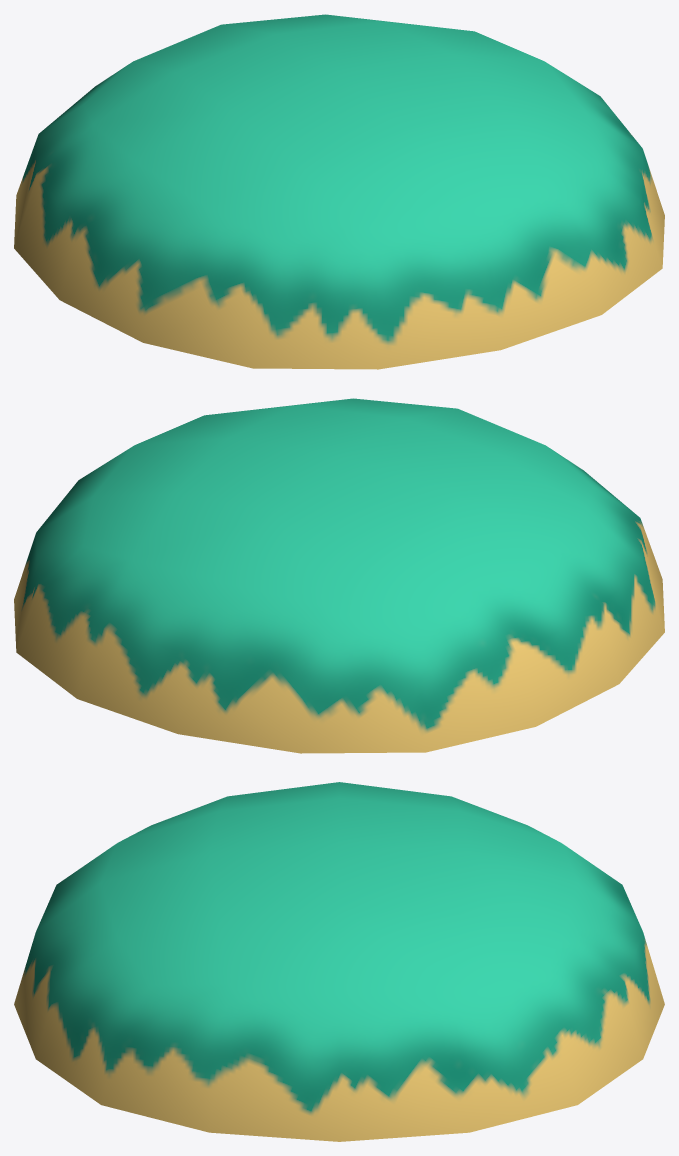
The model's file is Islet001.fbx.
3 views of the same model, one above another, from view 1: azimuth 30°, elevation 25°; view 2: azimuth 150°, elevation 25°; view 3: azimuth 270°, elevation 25° (orthographic).
Parts seen in each view (by area): view 1: kojima1; view 2: kojima1; view 3: kojima1.
Part boxes in pixels (box(x1,y1,x2,y2)): kojima1: box(14, 14, 664, 369); kojima1: box(14, 398, 664, 753); kojima1: box(14, 782, 664, 1141).
Size of the model in its own units: 2.85 by 0.7776 by 2.85.
1 material, 1 textured.
